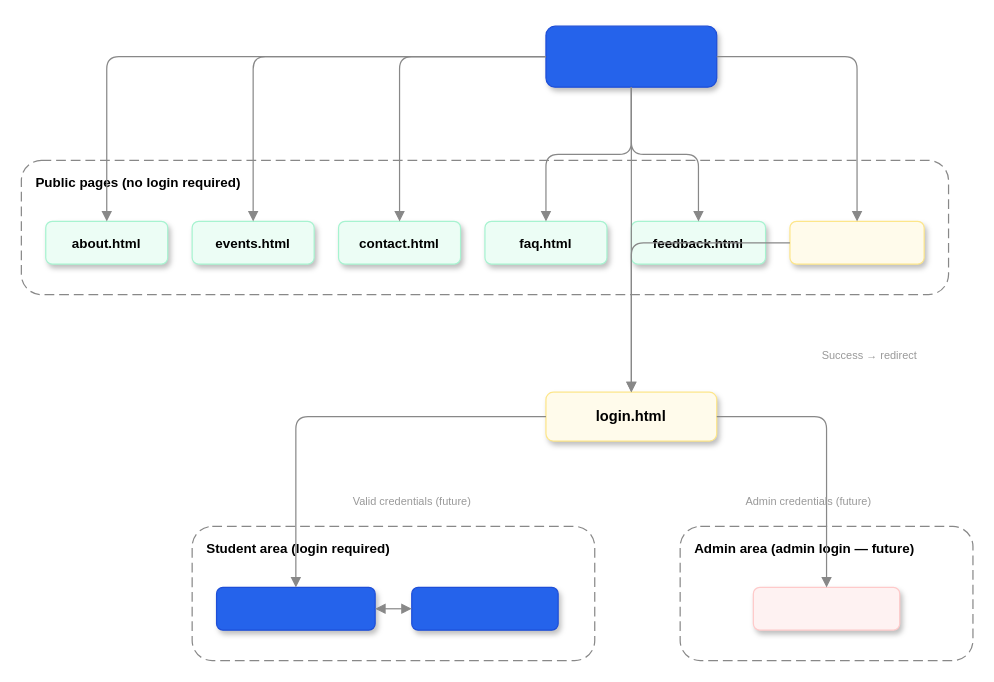
Image size: 994x682. Some labels were removed from this diagram. The centre of each missing label's shape, as x and y in pixels:
"admin.html" belongs at point 827,610.
"dashboard.html" belongs at point 296,610.
"index.html Home" belongs at point 632,58.
"profile.html" belongs at point 485,610.
"register.html" belongs at point 857,244.
